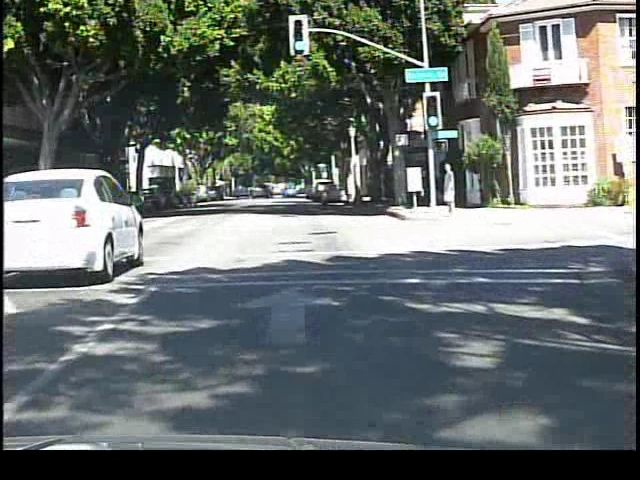person: (438, 158, 460, 219)
